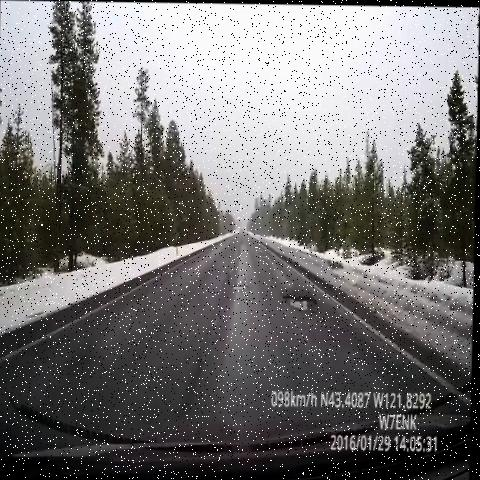pothole: (278, 276, 318, 324), (229, 271, 254, 298)
